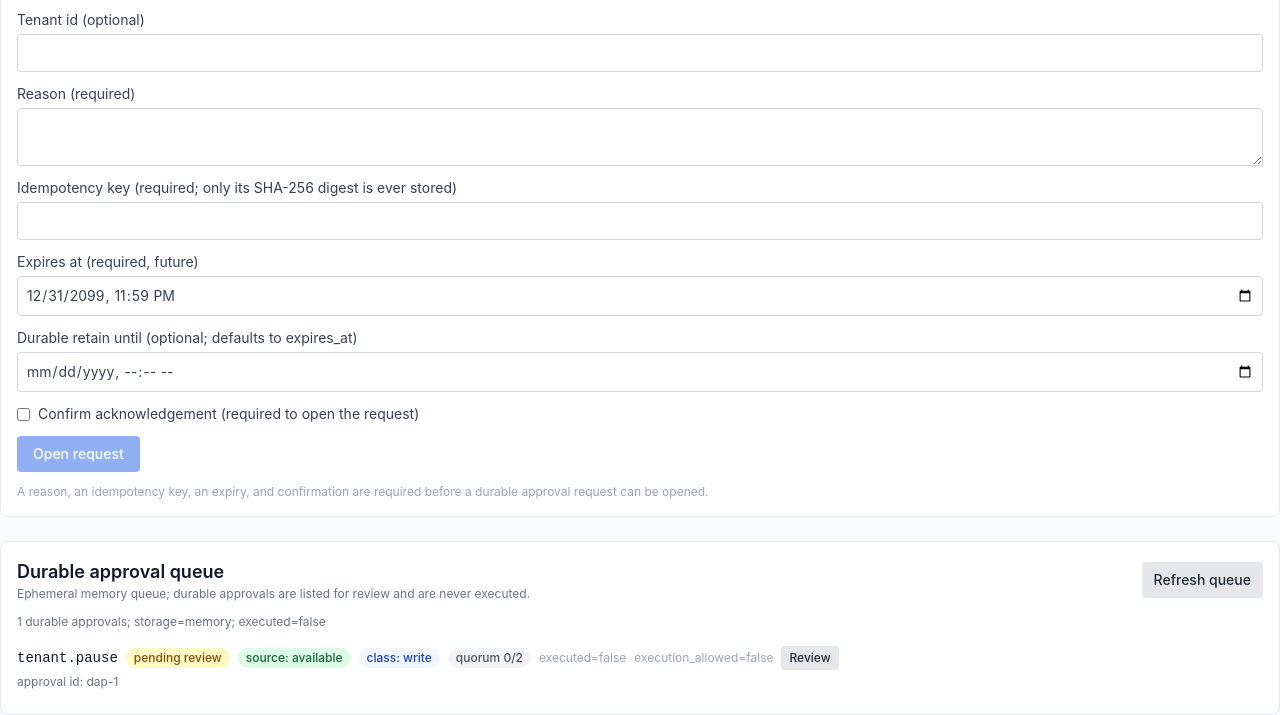
Test: PlatformDurableApprovalsPage › reject submits to the decisions endpoint with decision reject
(page scrolled)
Check: the list item with test id "dap-queue-item" is shown, box [17,646,839,689]
Click the button with test id "dap-review-btn": (810, 658) [782,646,839,670]
(page scrolled)
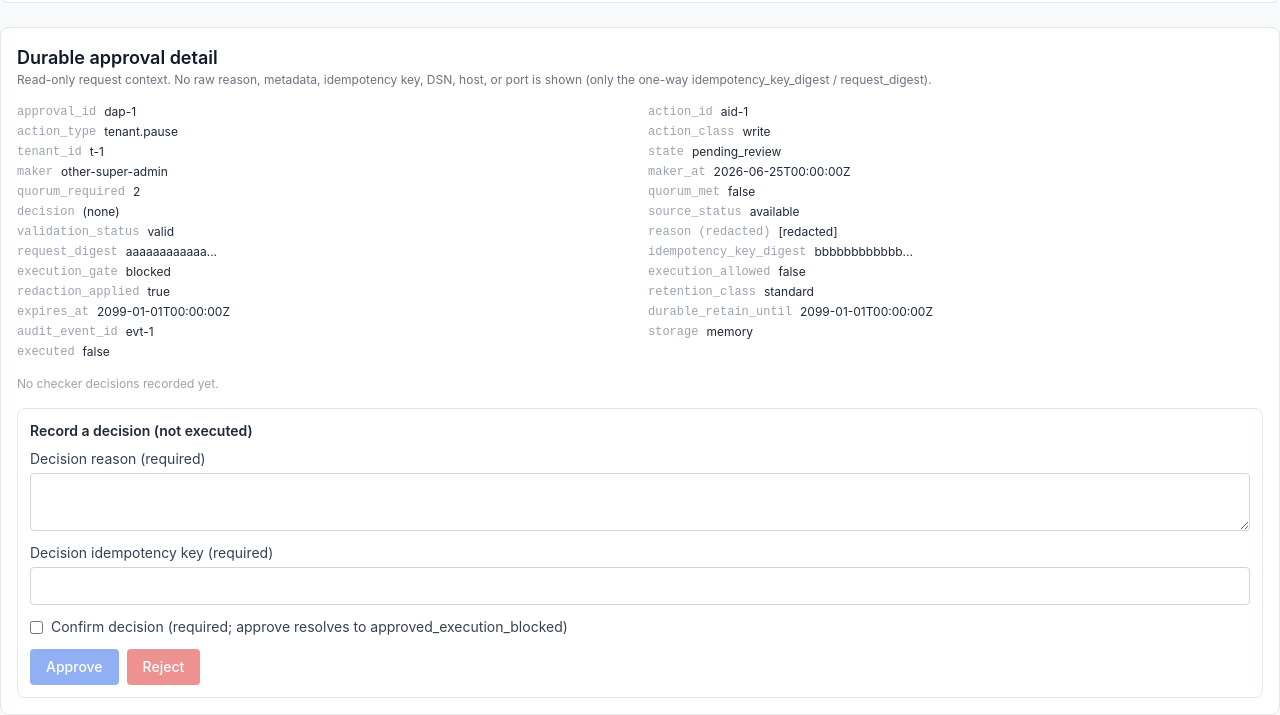
Check: the element with test id "dap-decision" is shown, box [17,408,1263,698]
In the text box with test id "dap-decision-reason-input": (640, 502) [30,473,1250,531], type "ok to approve"
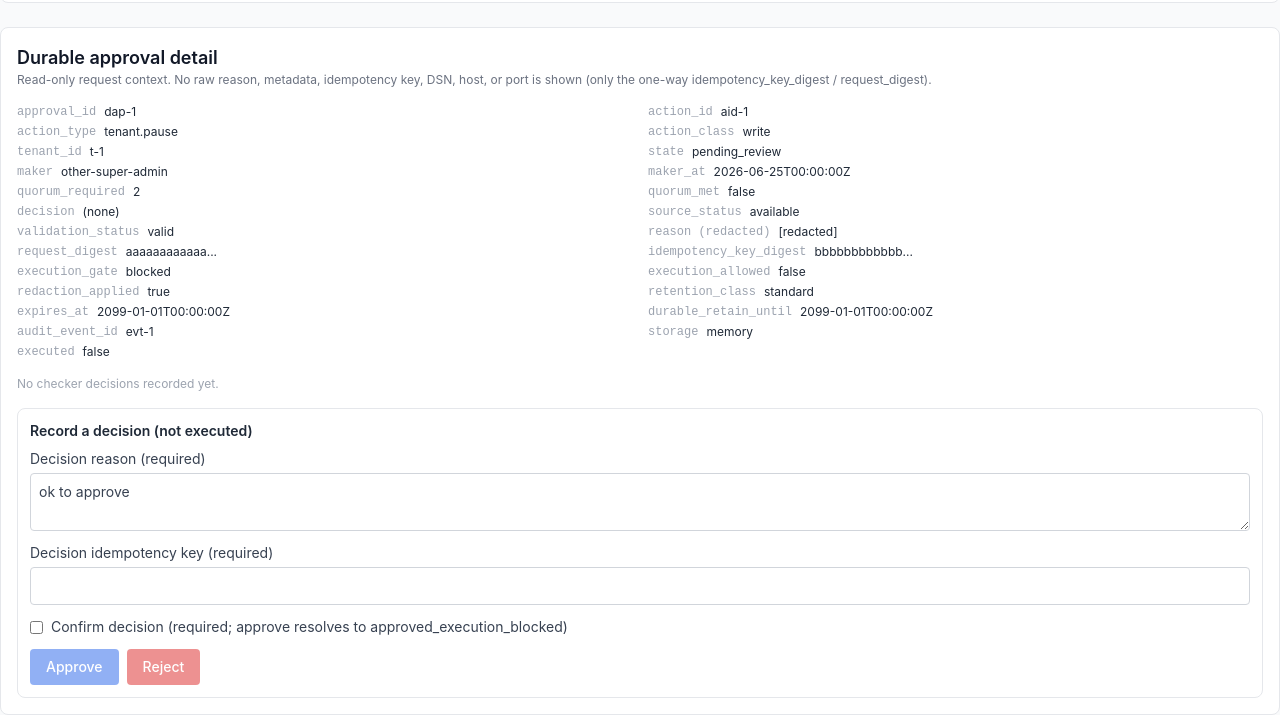
In the field with test id "dap-decision-idempotency-input": (640, 586) [30,567,1250,605], type "dec-1"
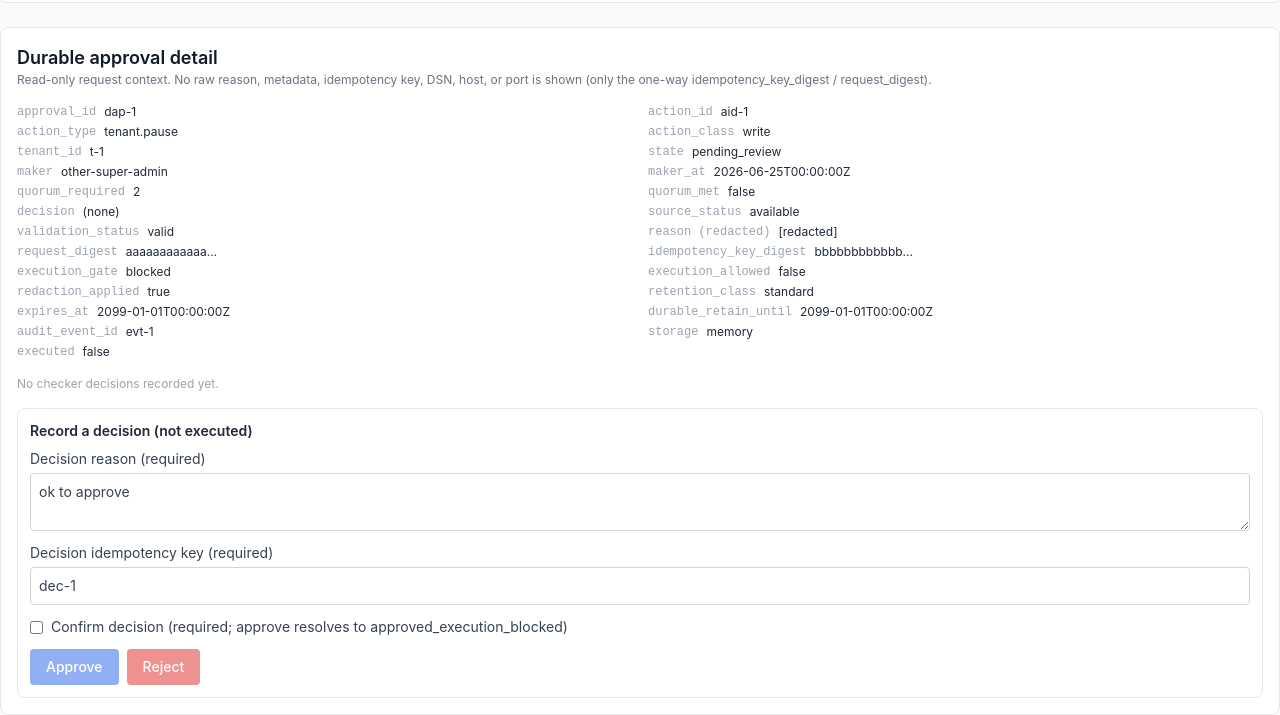
Click the checkbox with test id "dap-decision-confirm-input": (36, 627) [30,620,43,634]
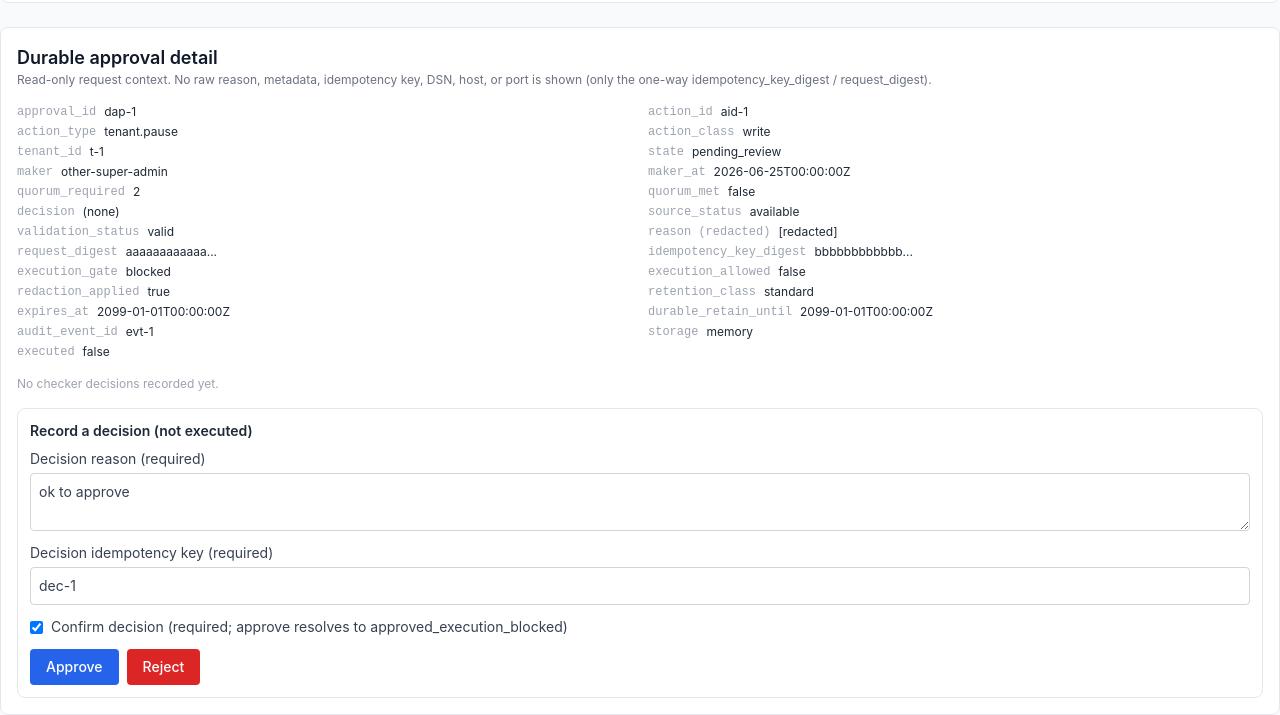
Click the button with test id "dap-reject-btn": (163, 667) [127,649,200,685]
(page scrolled)
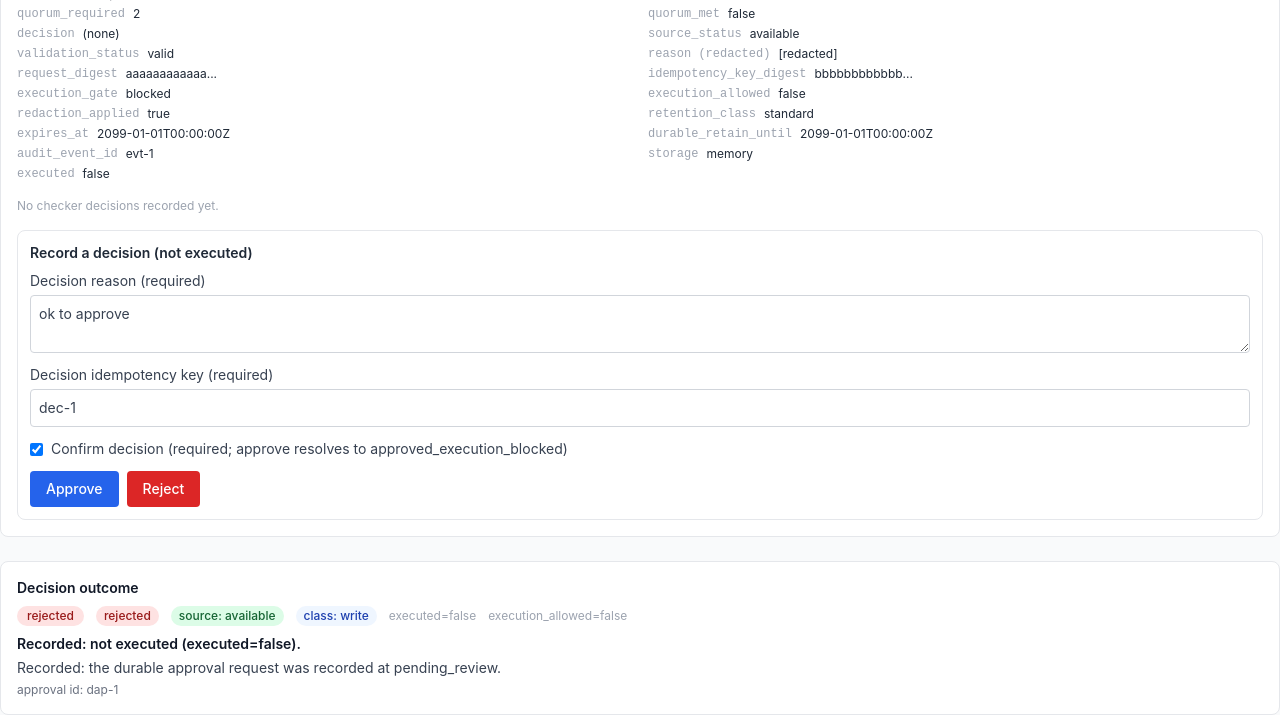
Check: the element with test id "dap-decision-result" shows "rejected", box [27,608,74,623]
